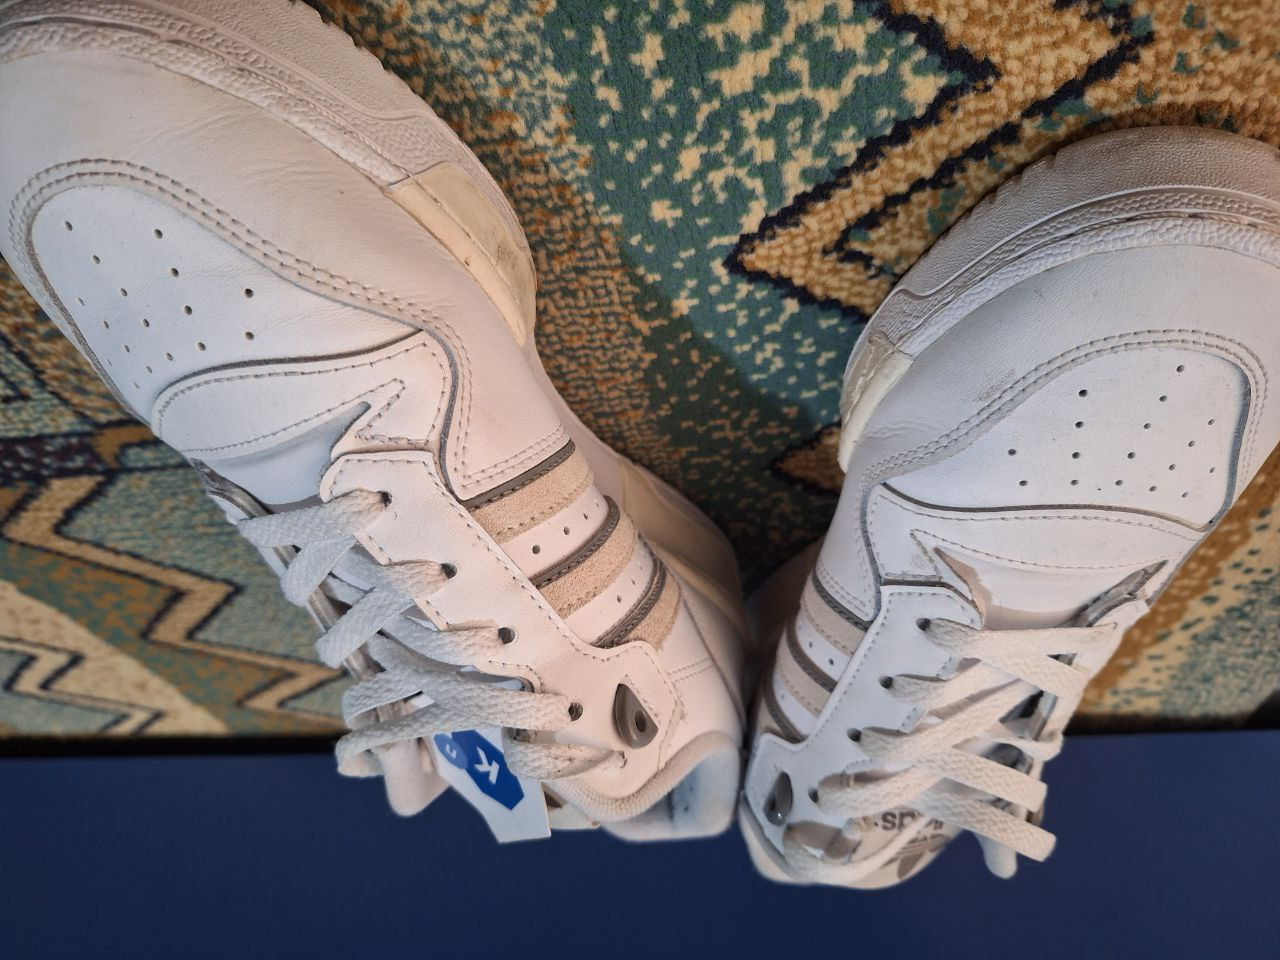knative: (414, 728, 533, 817)
